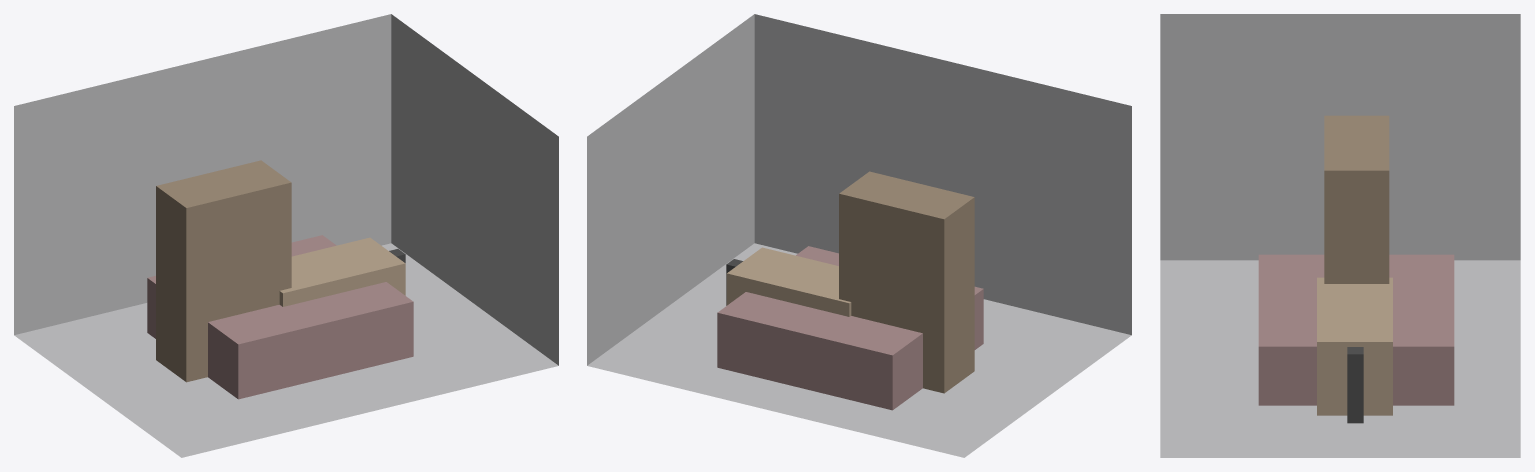
The model's file is optimised_layout.glb.
3 renders of one model, left to right at view 1: azimuth 30°, elevation 25°; view 2: azimuth 150°, elevation 25°; view 3: azimuth 270°, elevation 25°, orthographic. The views are drawn at different scales.
Parts seen in each view (by area): view 1: room, wardrobe, bed, desk; view 2: room, wardrobe, bed, desk; view 3: room, bed, wardrobe, desk, tv.
Boxes of the visible parts, <box> form: room: <box>14,14,558,457</box>; wardrobe: <box>156,160,291,382</box>; bed: <box>147,235,413,399</box>; desk: <box>279,237,405,306</box>; room: <box>587,14,1131,457</box>; wardrobe: <box>839,171,974,393</box>; bed: <box>717,246,983,410</box>; desk: <box>726,247,851,316</box>; room: <box>1160,14,1520,457</box>; bed: <box>1258,254,1454,405</box>; wardrobe: <box>1324,115,1389,283</box>; desk: <box>1317,277,1392,415</box>; tv: <box>1347,347,1363,423</box>.
Size of the model in its own units: 4.31 by 2.5 by 3.31.
